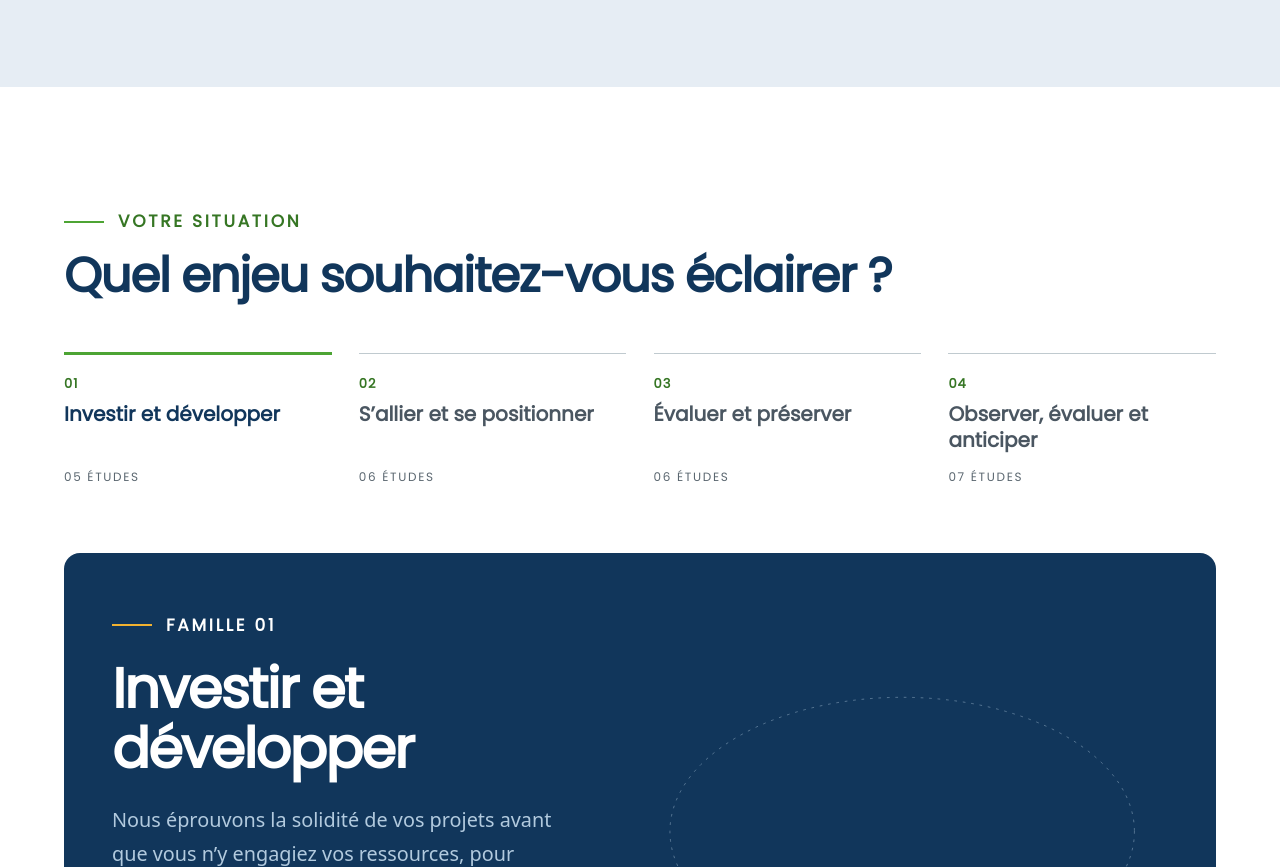
Test: Page « Études stratégiques » › bloc 02 : un onglet par famille, une seule famille affichée, clavier compris
(page scrolled)
expect the panel shows "Investir et développer": met, box [112,650,413,787]
Step 1. Click the tab "03 Évaluer et préserver 06 études" → point(752, 414), box [654,353,921,510]
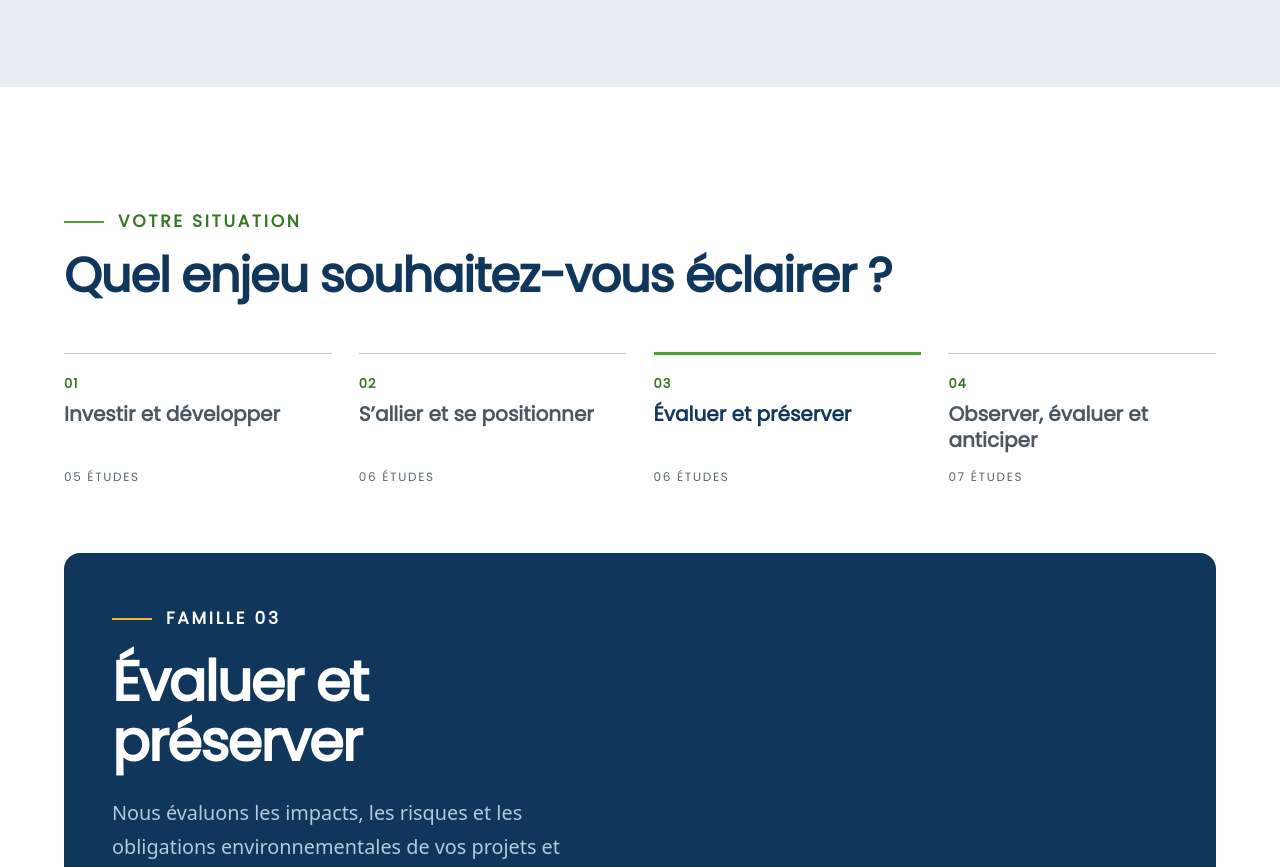
expect the panel shows "Évaluer et préserver": met, box [112,643,367,780]
Step 2. Press ArrowRight in the tab "03 Évaluer et préserver 06 études", box [654,353,921,510]
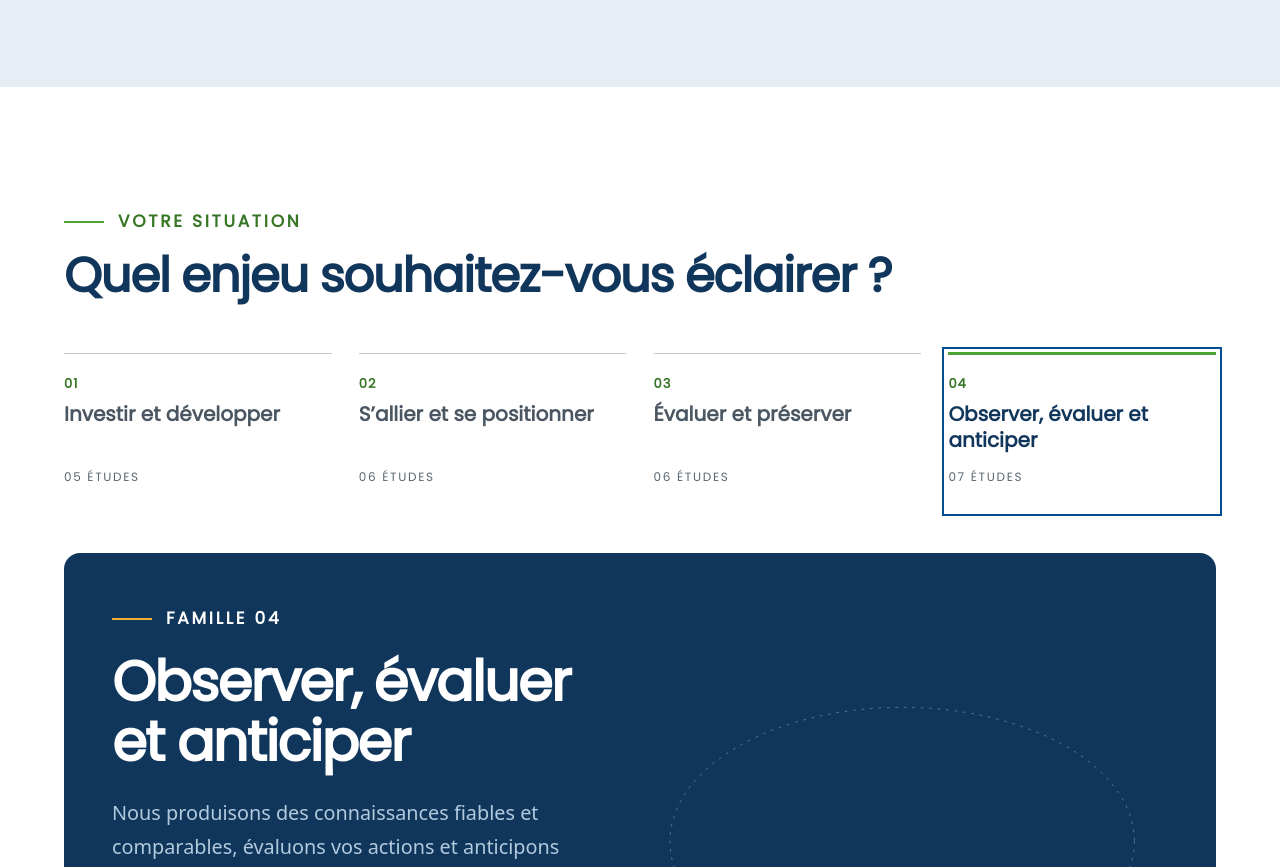
expect the tab "04 Observer, évaluer et anticiper 07 études" is selected: met
Step 3. Press Home in the tab "04 Observer, évaluer et anticiper 07 études", box [948,353,1216,510]
(page scrolled)
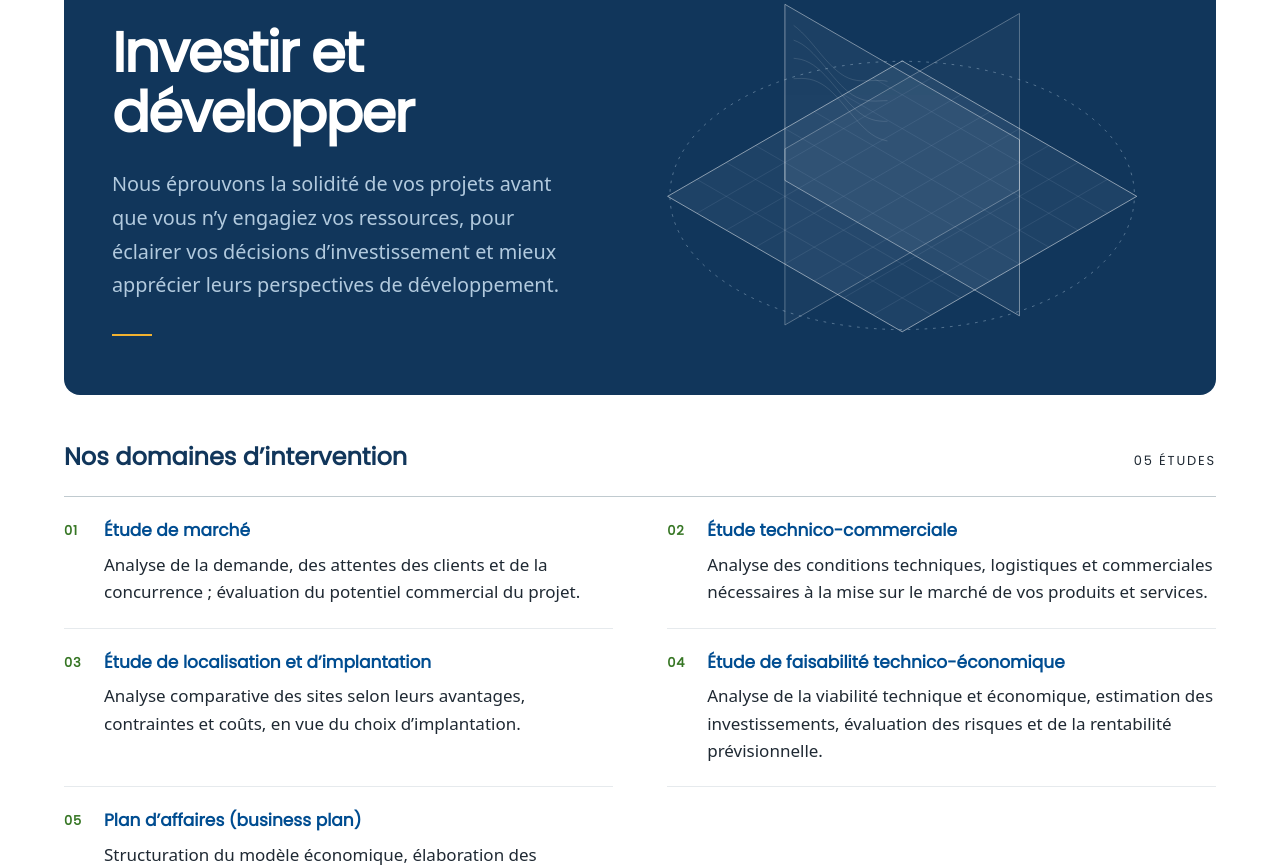
expect the panel shows "Investir et développer": met, box [112,14,413,151]
